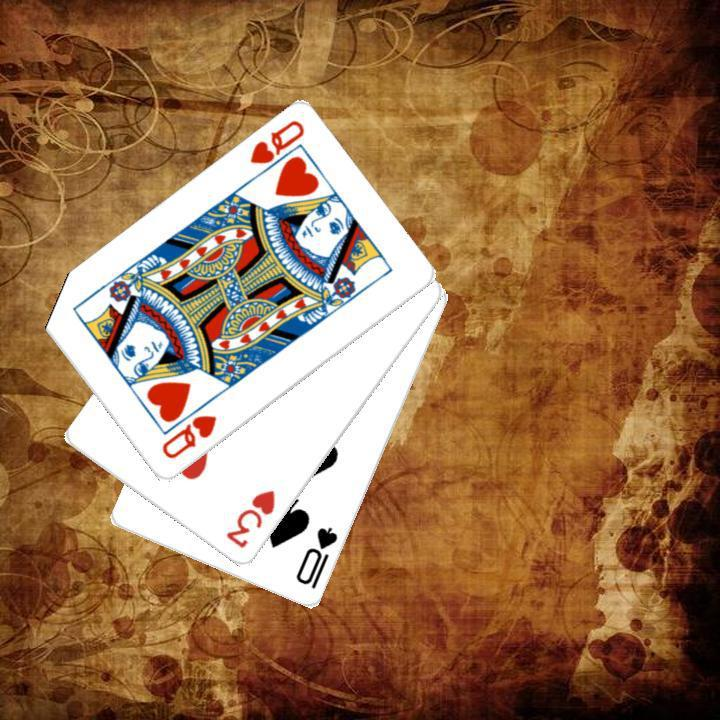10: (291, 523, 340, 592)
3: (221, 486, 278, 551)
Q: (245, 116, 307, 183), (157, 411, 219, 462)
